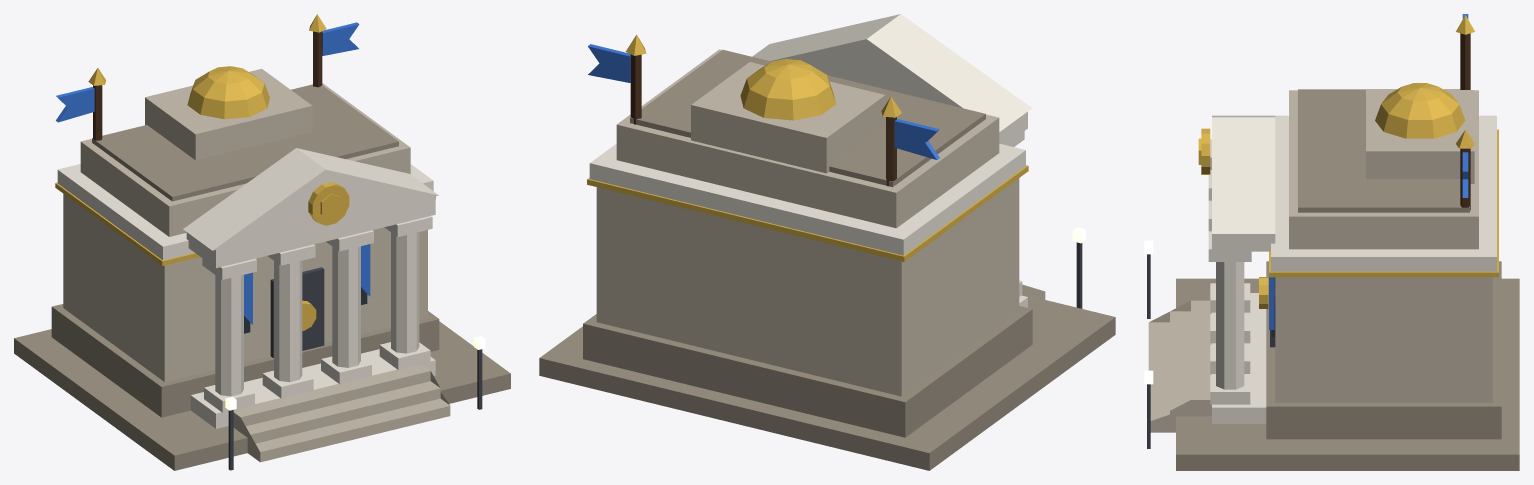
The model's file is bld_bank.glb.
The picture shows the model from 3 angles, left to right: view 1: azimuth 30°, elevation 25°; view 2: azimuth 150°, elevation 25°; view 3: azimuth 270°, elevation 25°; orthographic projection. The views are drawn at different scales.
Parts seen in each view (by area): view 1: bld_bank; view 2: bld_bank; view 3: bld_bank.
Part boxes in pixels (x1=…): bld_bank: x1=14, y1=14, x2=510, y2=470; bld_bank: x1=539, y1=14, x2=1115, y2=470; bld_bank: x1=1144, y1=14, x2=1519, y2=470.
Size of the model in its own units: 0.46 by 0.3792 by 0.415.
